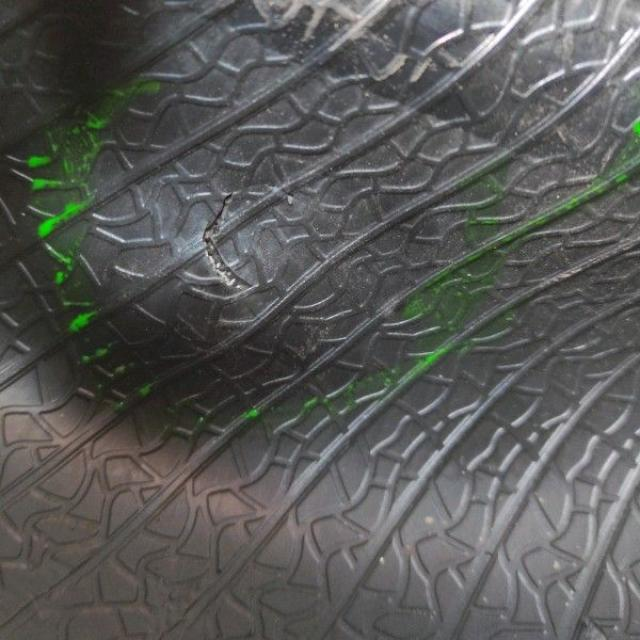Bulge: (70, 175, 331, 448)
